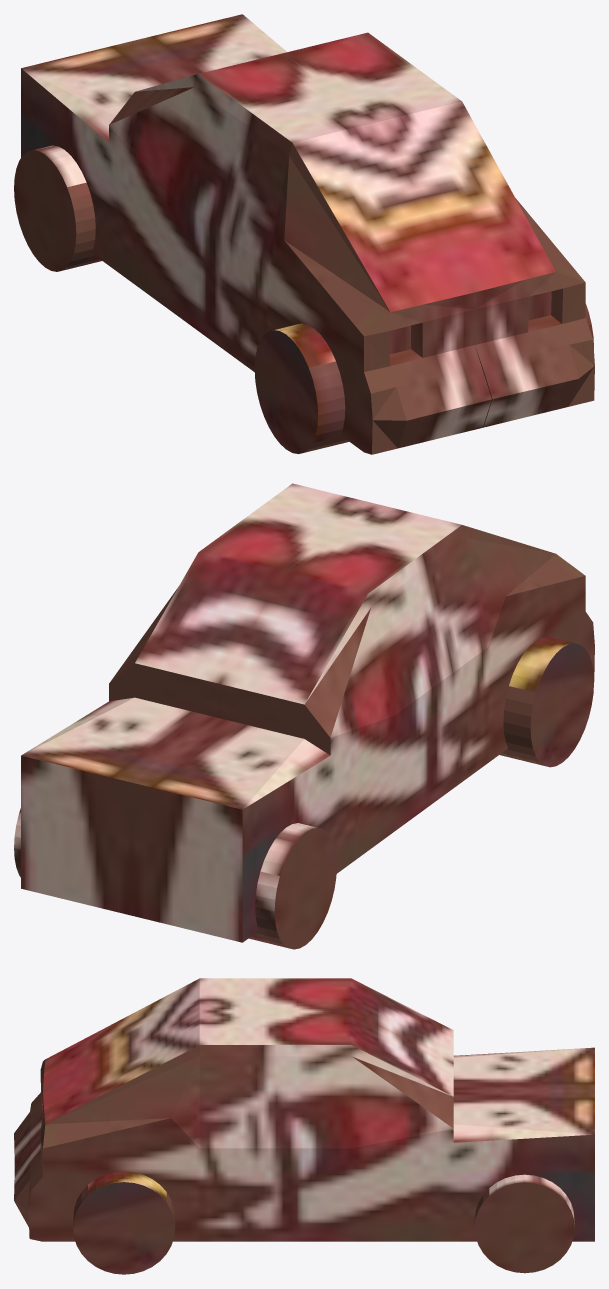
The model's file is car.obj.
3 renders of one model, top to bottom at view 1: azimuth 30°, elevation 25°; view 2: azimuth 150°, elevation 25°; view 3: azimuth 270°, elevation 25°, orthographic. The views are drawn at different scales.
Parts seen in each view (by area): view 1: Cube_Cube.001; view 2: Cube_Cube.001; view 3: Cube_Cube.001.
Part boxes in pixels (<box>): Cube_Cube.001: <box>14,14,594,454</box>; Cube_Cube.001: <box>14,483,594,949</box>; Cube_Cube.001: <box>14,978,594,1274</box>.
Bounding box in the file's own units: 0.635 × 0.5747 × 1.44.
